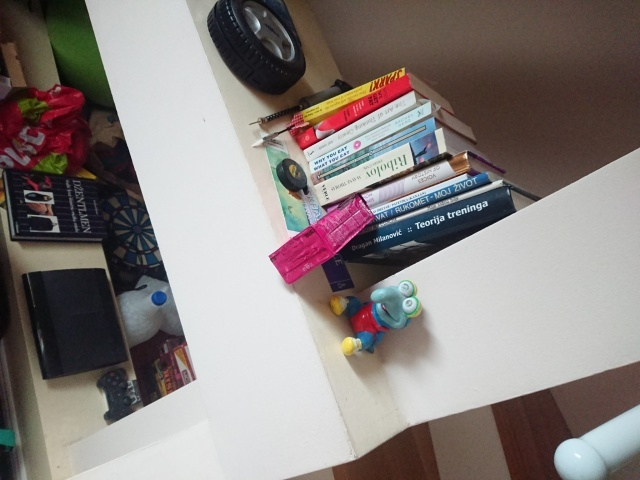Barcaffe Classic Original 225g: (267, 190, 377, 286)
